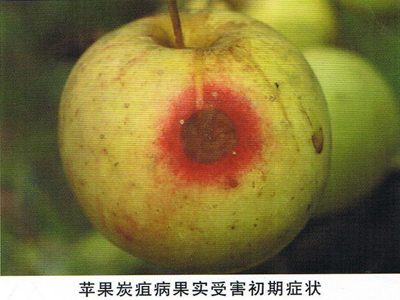defect: (161, 97, 266, 187)
